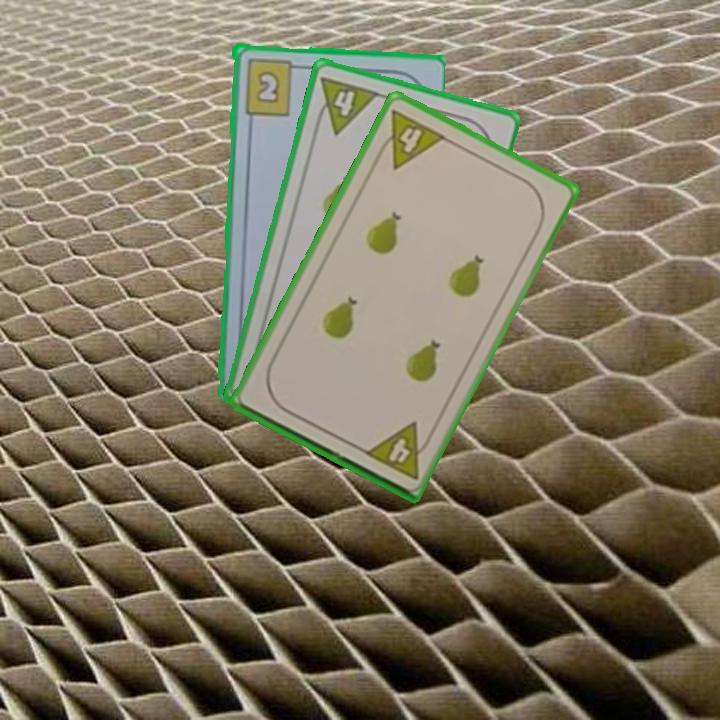2b: (240, 55, 304, 118)
4p: (371, 105, 449, 172), (360, 418, 436, 482), (310, 72, 382, 137)
